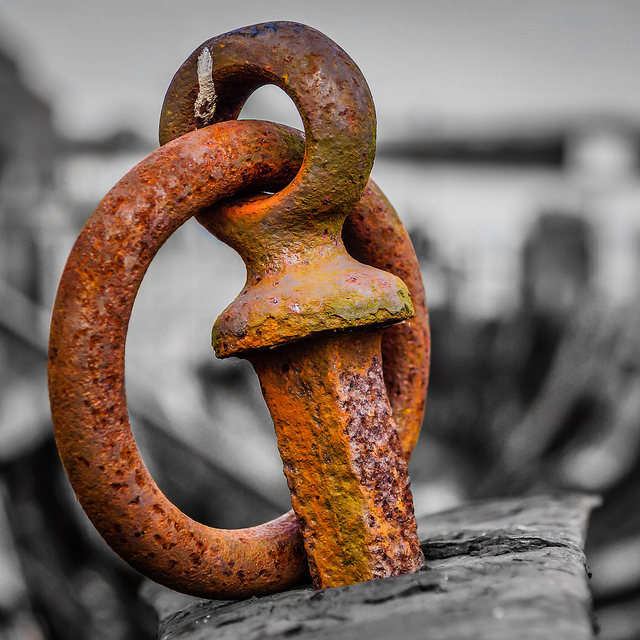rust: (104, 131, 376, 245), (265, 359, 402, 498), (44, 265, 135, 453), (104, 505, 294, 591)
